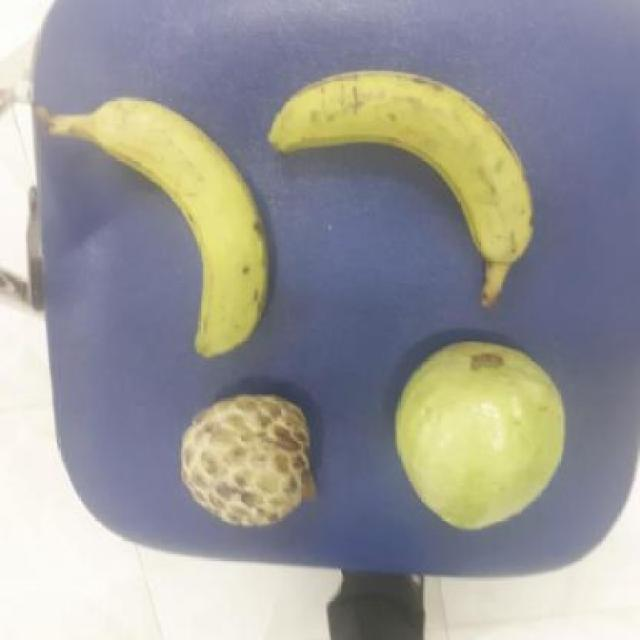banana: (268, 77, 547, 280), (91, 97, 277, 357)
guava: (397, 343, 580, 526), (183, 394, 323, 526)
sugar apple: (183, 393, 326, 529)
